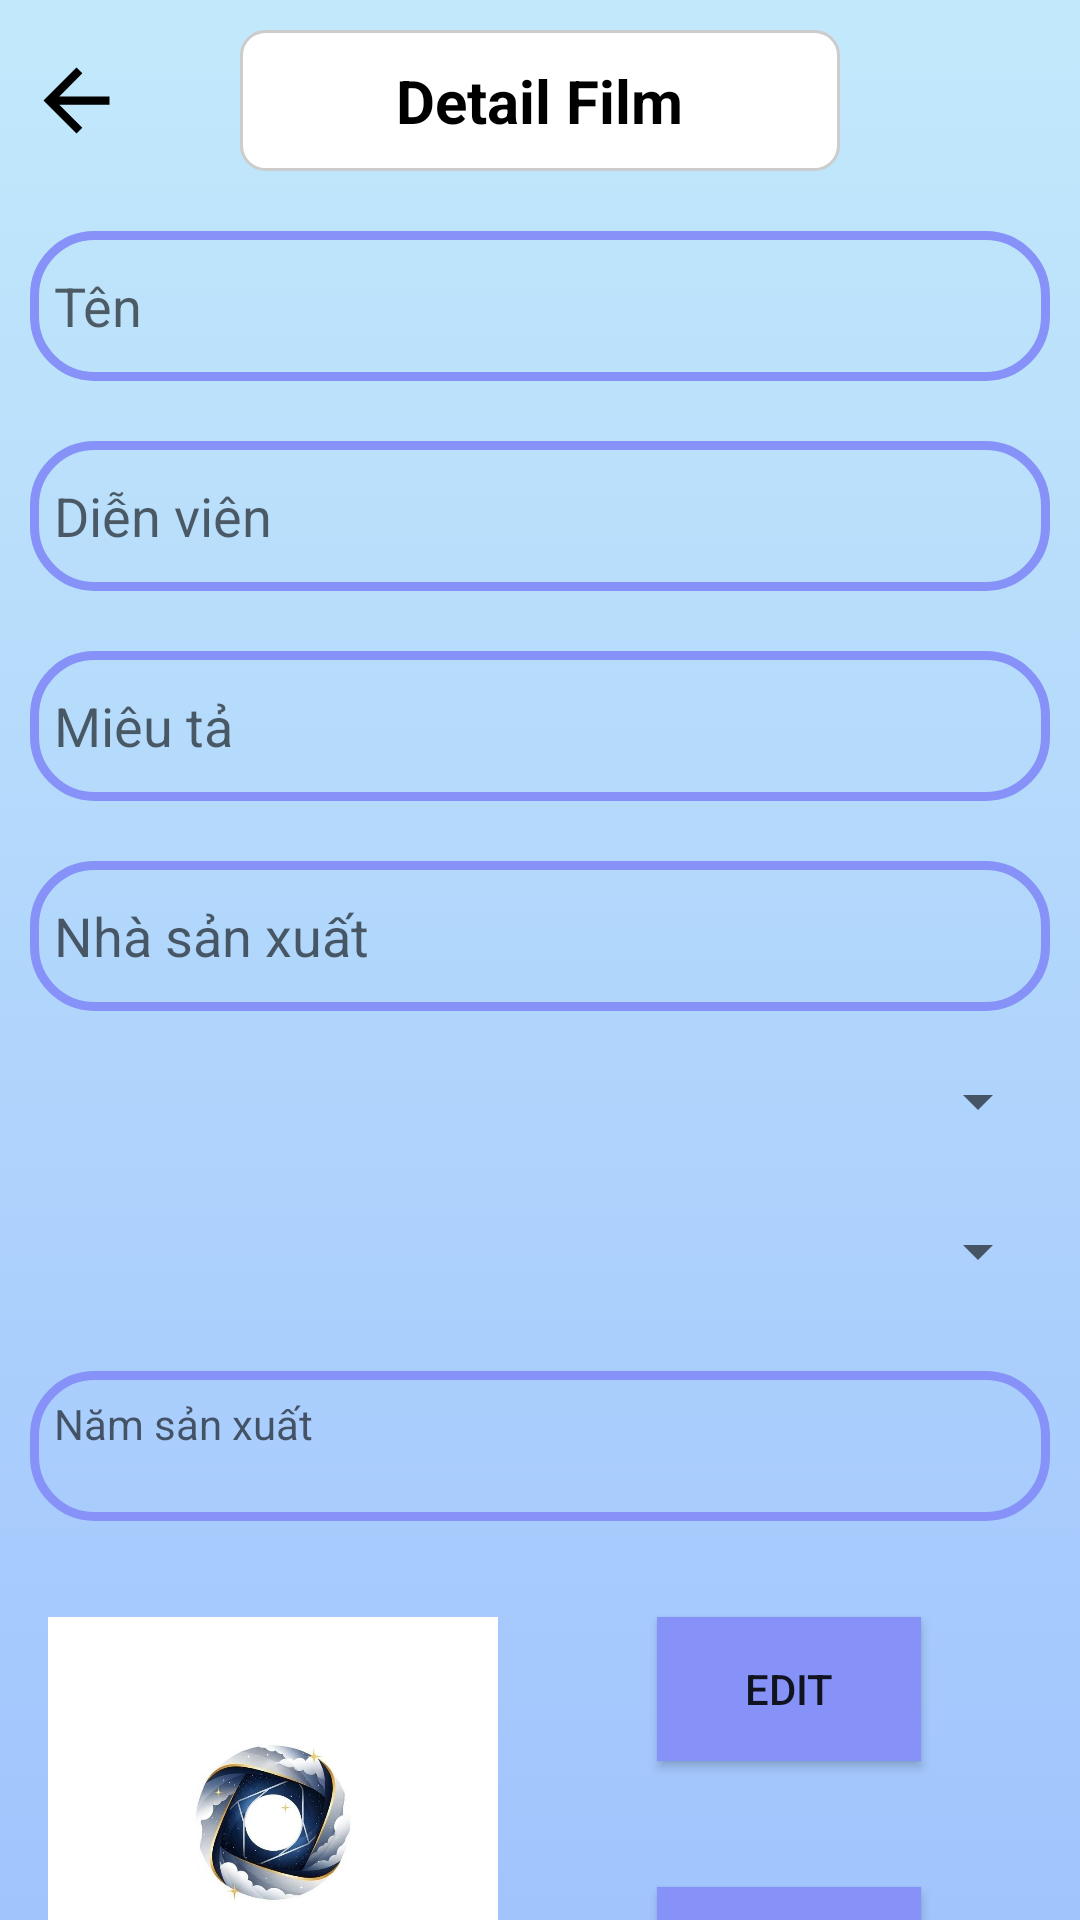

Where to tap for icons on this 1080 x 1920 app screen, as point (x, y):
back arrow: point (76, 100)
